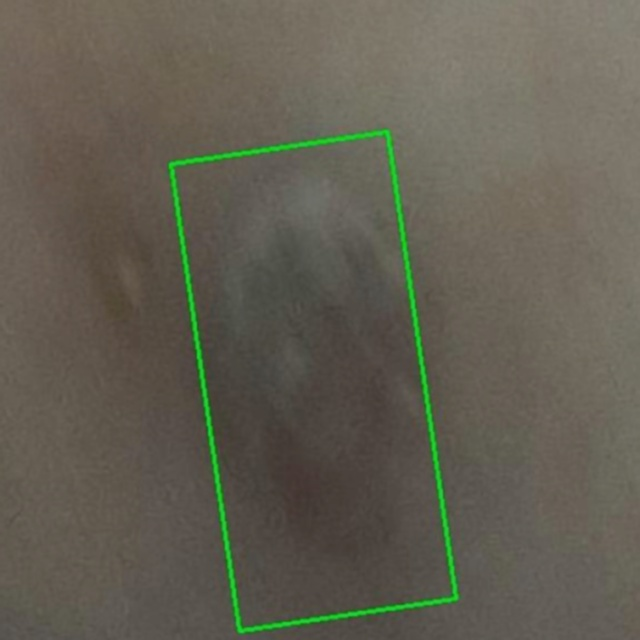Eczema: (171, 133, 456, 631)
